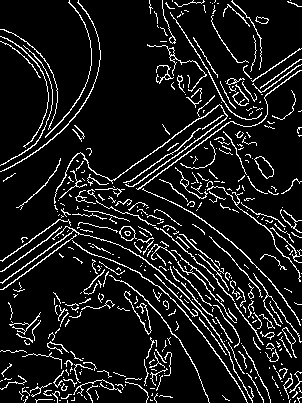cucumber: (44, 173, 302, 402)
